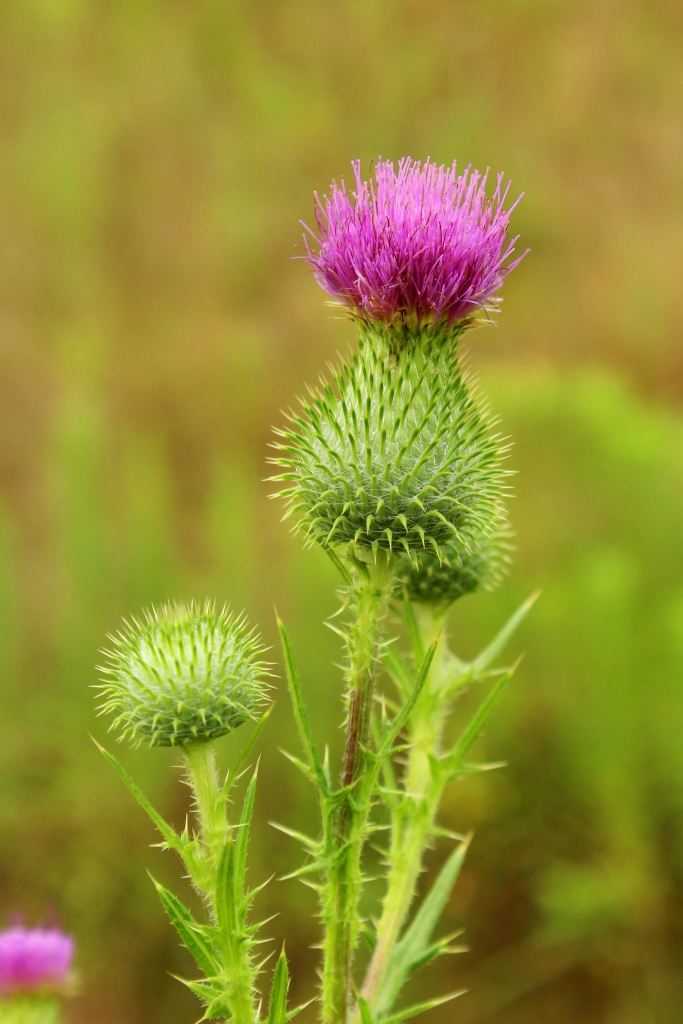thistle: (263, 158, 507, 551)
